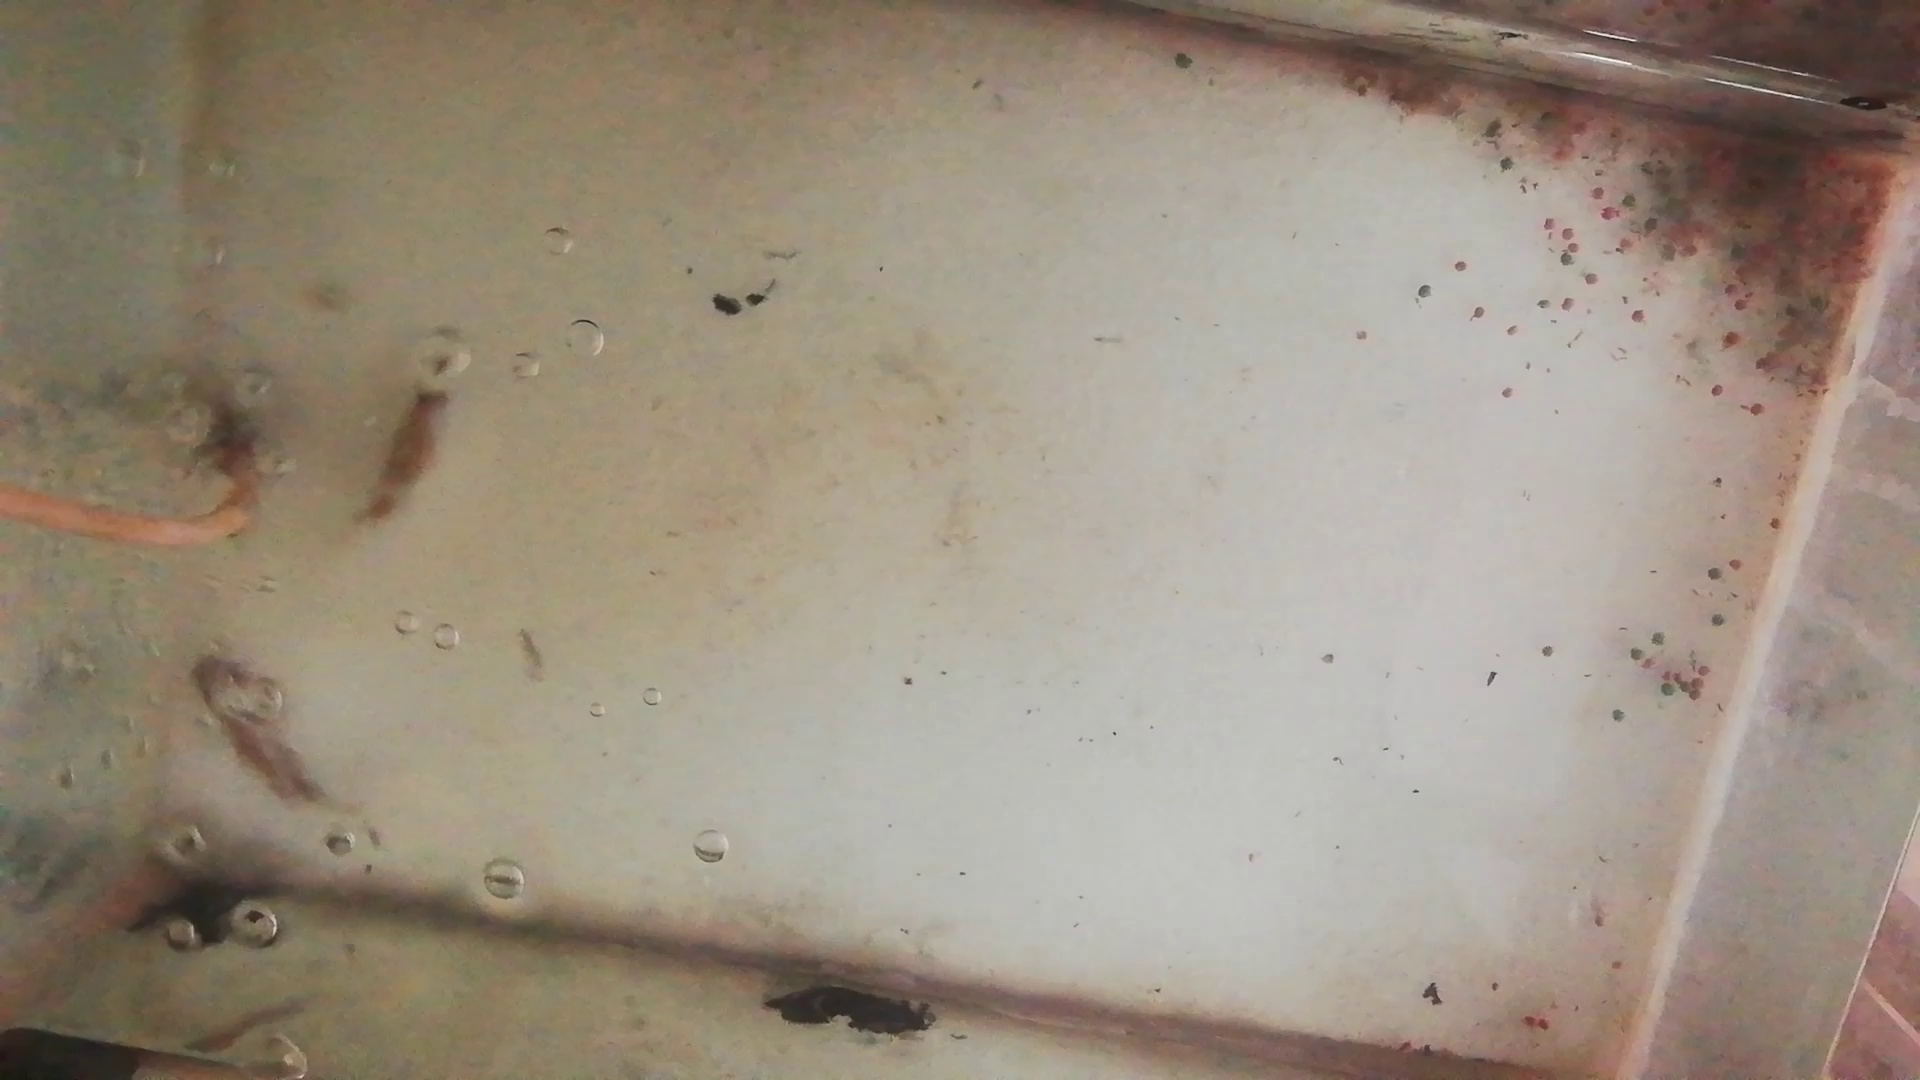fish: (191, 653, 332, 808), (367, 338, 463, 527)
